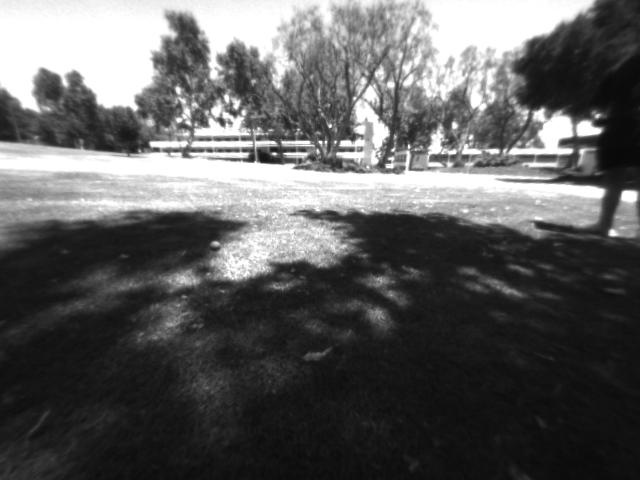dogtoy: (205, 238, 226, 253)
